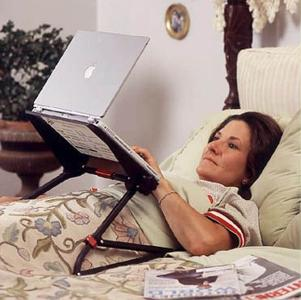person: (129, 112, 283, 257)
